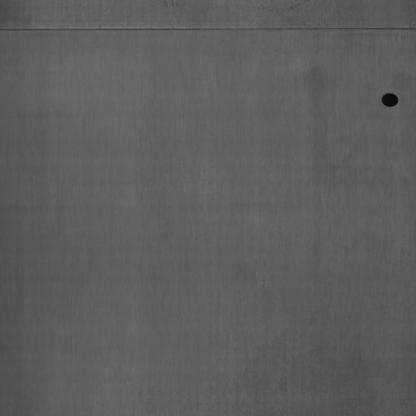punching_hole: (377, 88, 401, 112)
welding_line: (0, 18, 414, 42)
